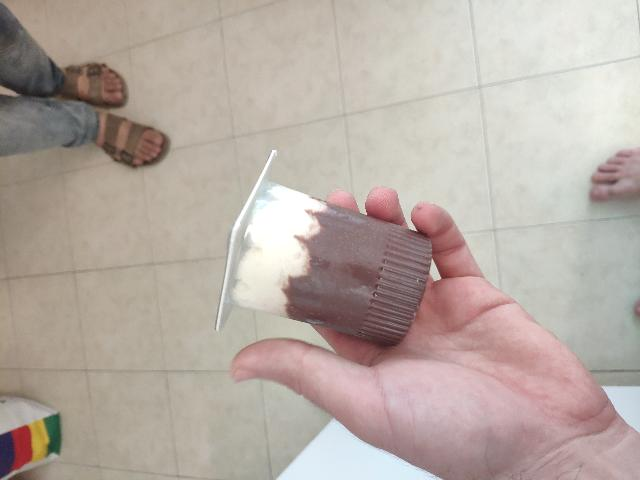milky: (206, 166, 447, 350)
